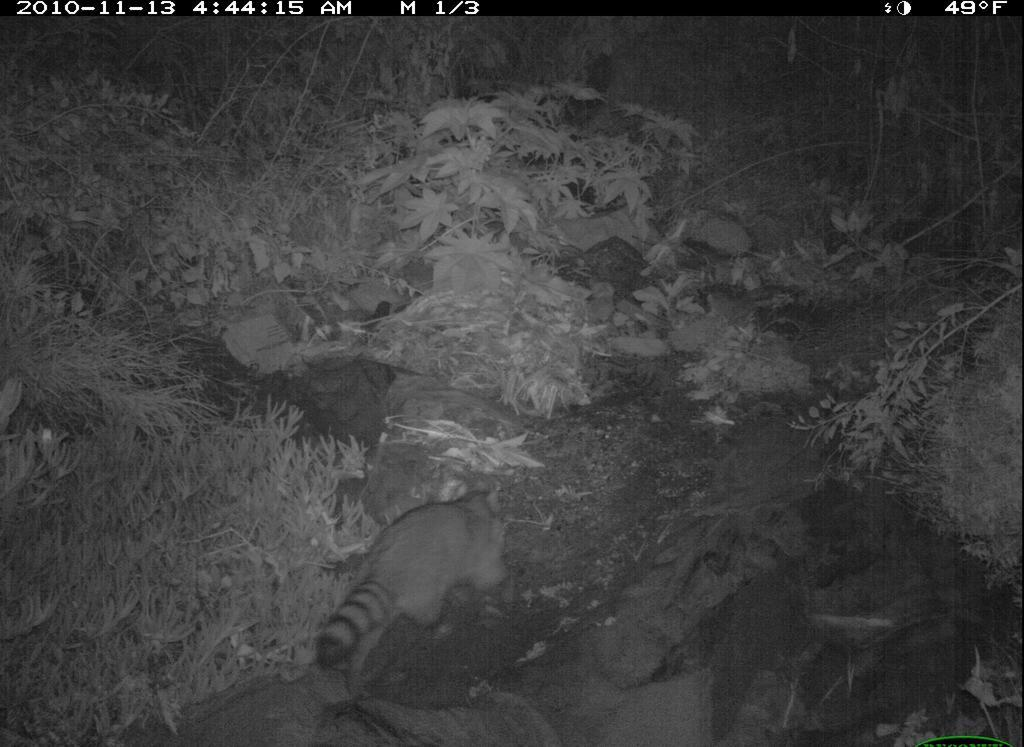raccoon: (312, 457, 529, 688)
